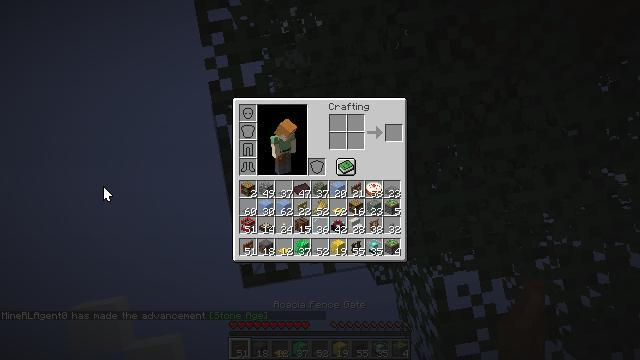cursor: (186, 103, 202, 113)
